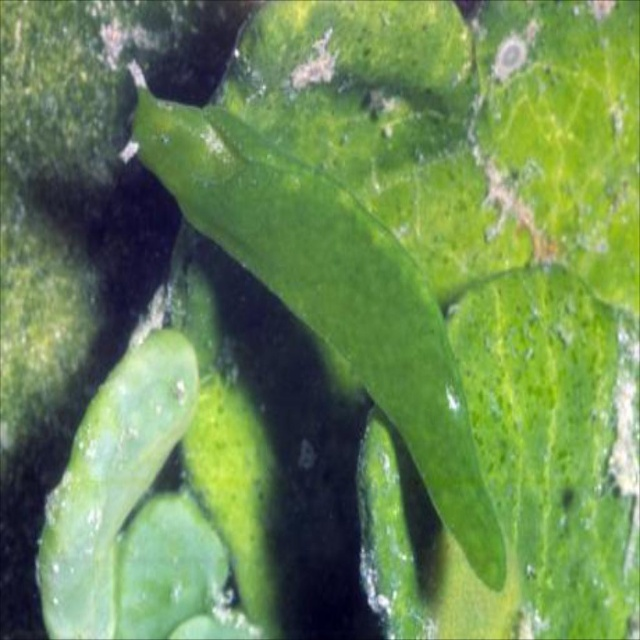Snail: (114, 53, 509, 597)
